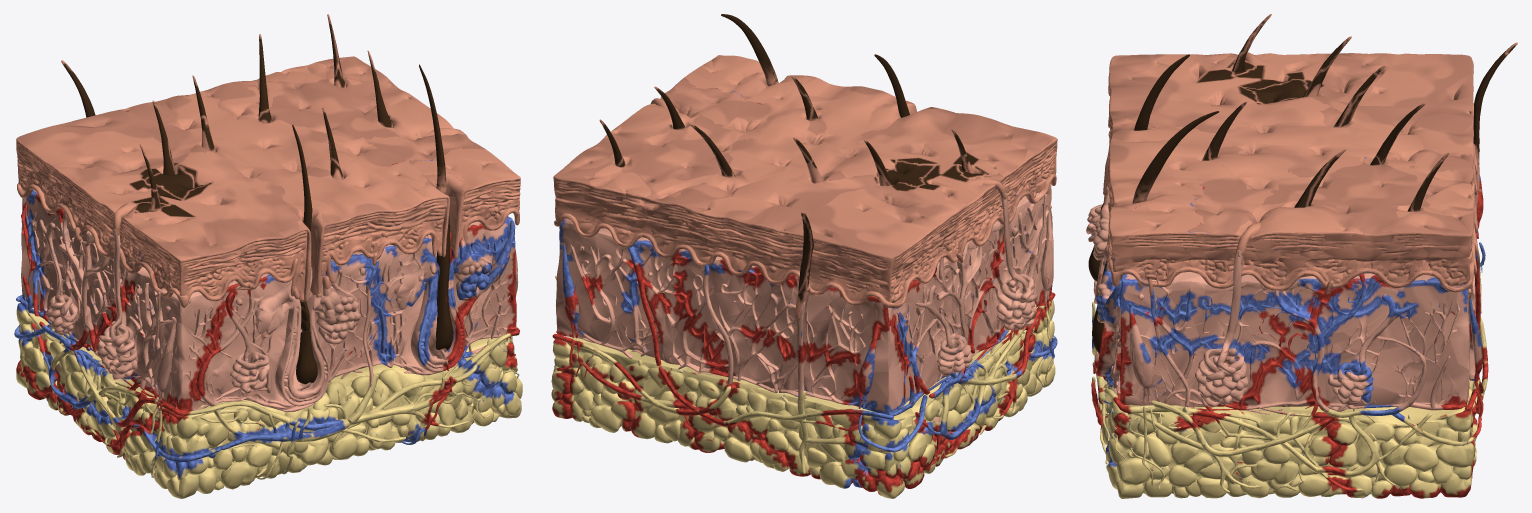
The model's file is organ-skin-disassemblable.glb.
3 renders of one model, left to right at view 1: azimuth 30°, elevation 25°; view 2: azimuth 150°, elevation 25°; view 3: azimuth 270°, elevation 25°, orthographic. The views are drawn at different scales.
Visible parts, largest first — view 1: part_4, part_1, part_0, part_5, part_3, part_6, part_2; view 2: part_4, part_1, part_0, part_6, part_3; view 3: part_4, part_1, part_0, part_6, part_3.
Part boxes in pixels (<box>): part_4: <box>16,14,520,307</box>; part_1: <box>19,189,518,412</box>; part_0: <box>14,295,522,498</box>; part_5: <box>435,209,452,350</box>; part_3: <box>292,124,312,330</box>; part_6: <box>419,64,446,193</box>; part_2: <box>296,330,317,384</box>; part_4: <box>553,55,1057,319</box>; part_1: <box>555,183,1053,416</box>; part_0: <box>551,292,1057,498</box>; part_6: <box>721,14,778,85</box>; part_3: <box>874,54,909,117</box>; part_4: <box>1103,14,1517,295</box>; part_1: <box>1086,175,1483,415</box>; part_0: <box>1091,242,1488,498</box>; part_6: <box>1132,111,1219,203</box>; part_3: <box>1100,54,1189,212</box>.
Bounding box in the file's own units: 1.89 × 1.52 × 1.65.
Materials: 7 (7 with a texture image).
